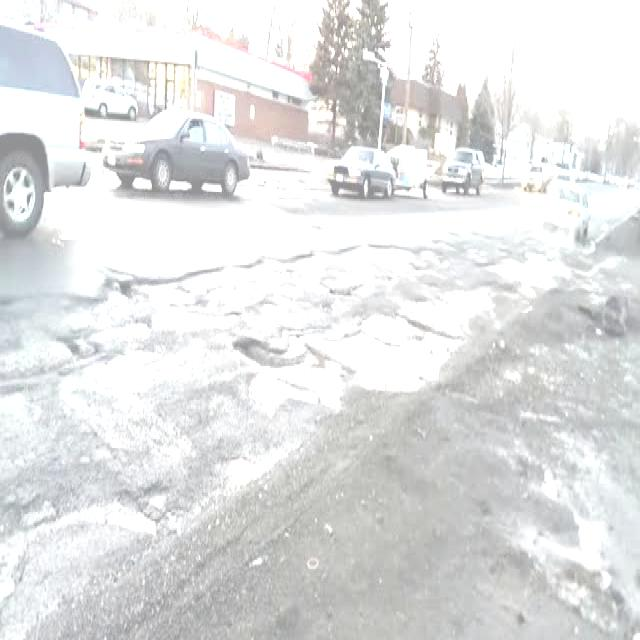Pothole: (118, 257, 467, 401)
